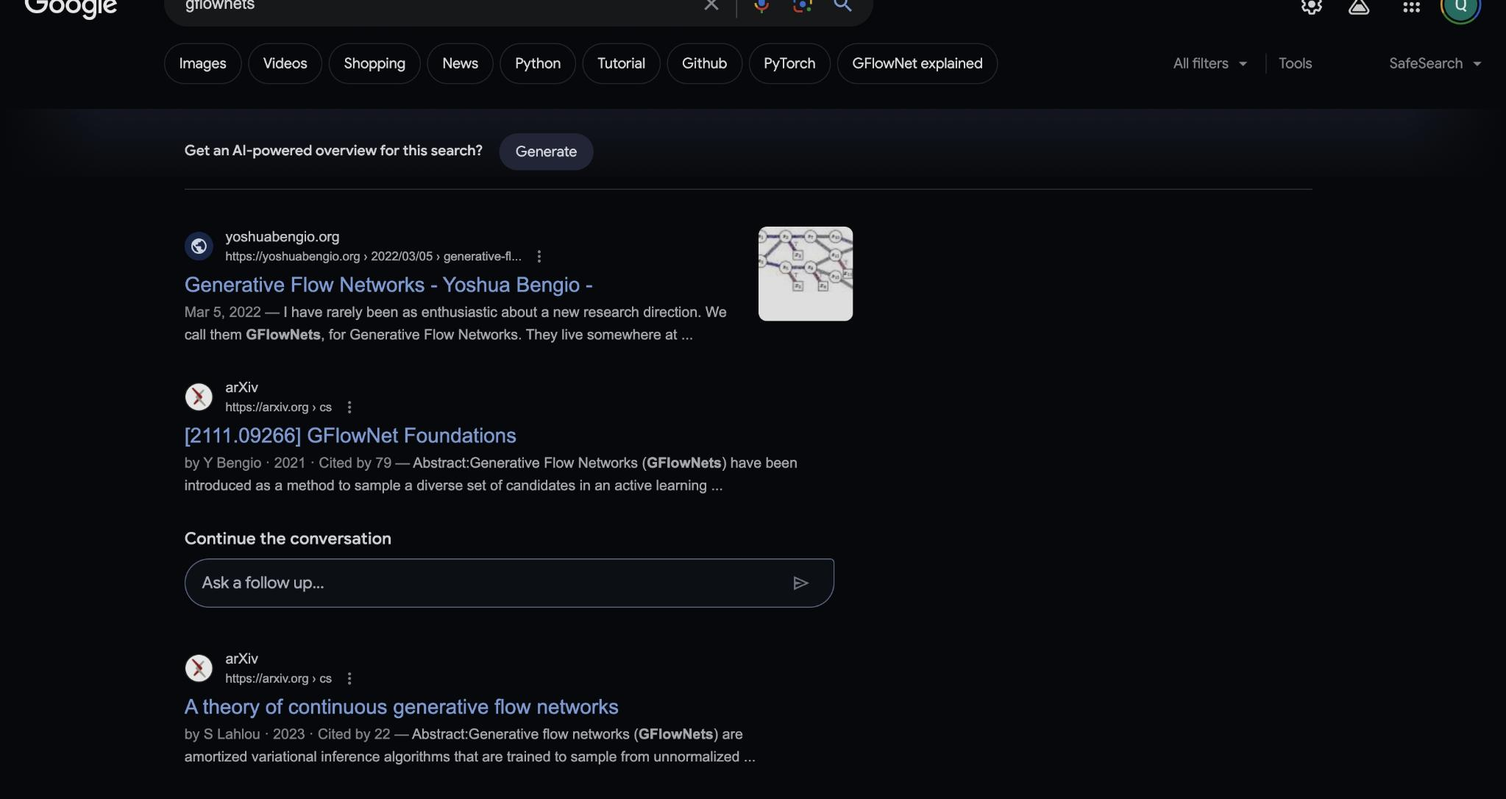webelement: (184, 226, 852, 799), (0, 42, 1505, 99), (164, 42, 1149, 83), (184, 558, 833, 607), (184, 454, 796, 492), (184, 304, 726, 342), (758, 226, 852, 320), (837, 42, 998, 83), (184, 701, 618, 716), (225, 226, 521, 246), (184, 280, 592, 294), (1377, 43, 1494, 91), (184, 141, 482, 159), (225, 246, 521, 264), (11, 11, 123, 56), (11, 40, 123, 85), (184, 429, 515, 444), (1161, 42, 1262, 83), (184, 725, 411, 742), (328, 42, 420, 83), (184, 453, 412, 469), (499, 132, 593, 169), (748, 42, 830, 83), (164, 42, 241, 83), (582, 42, 659, 83), (500, 42, 576, 83), (665, 42, 741, 83), (248, 42, 322, 83), (427, 42, 493, 83), (852, 53, 983, 72), (359, 248, 519, 262), (1269, 42, 1321, 83), (225, 377, 331, 397), (225, 649, 331, 668), (225, 669, 331, 688), (225, 397, 331, 415), (792, 559, 832, 606), (1389, 53, 1487, 72), (184, 725, 259, 742), (317, 725, 389, 742), (515, 141, 576, 161), (184, 304, 260, 320), (184, 453, 260, 469), (344, 53, 405, 72), (319, 453, 391, 469), (763, 53, 814, 72), (179, 53, 226, 72), (597, 53, 644, 72), (515, 53, 560, 72), (681, 53, 726, 72), (263, 53, 306, 72), (340, 395, 380, 415), (340, 667, 380, 687), (529, 245, 570, 264), (442, 53, 477, 72), (272, 725, 303, 742), (273, 453, 304, 469), (189, 387, 207, 405), (189, 659, 207, 677), (308, 399, 331, 413), (308, 671, 331, 685)
